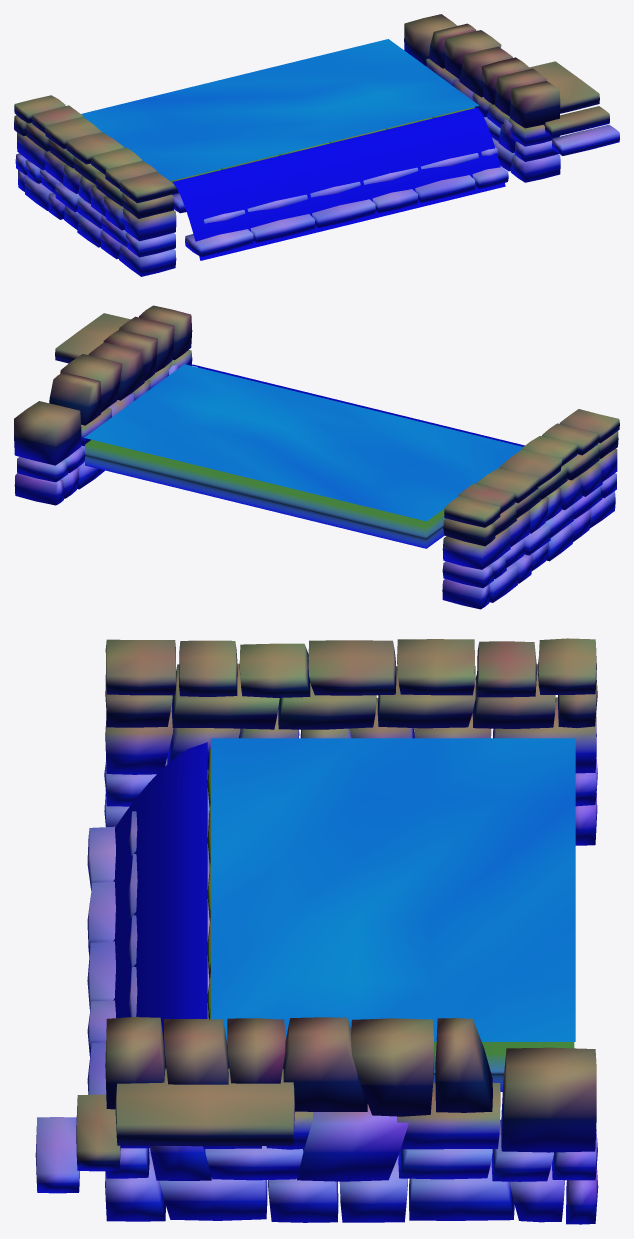
File: sea_cut_weir.glb
3 views of the same model, one above another, from view 1: azimuth 30°, elevation 25°; view 2: azimuth 150°, elevation 25°; view 3: azimuth 270°, elevation 25° (orthographic). The views are drawn at different scales.
Visible parts, largest first — view 1: sea_cut_weir; view 2: sea_cut_weir; view 3: sea_cut_weir.
Boxes of the visible parts, x1,y1,x2,y2 form: sea_cut_weir: (14,14,619,276); sea_cut_weir: (14,305,619,609); sea_cut_weir: (35,638,598,1224).
Size of what is drawn, in the model's own units: 9.61 by 1.69 by 5.01.
